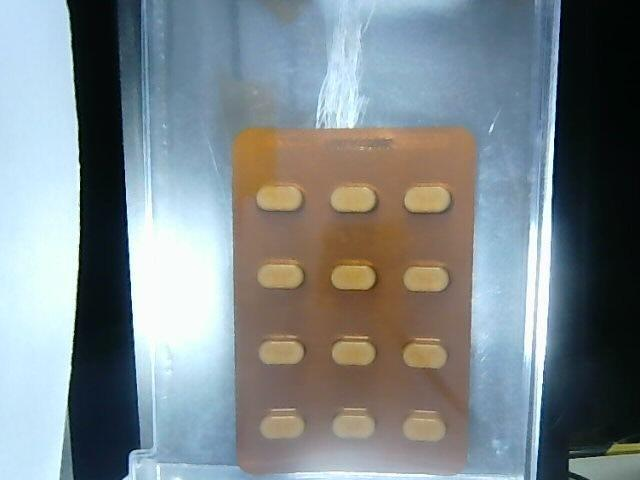Light Front: (229, 125, 479, 478)
Pill Front: (321, 257, 386, 299), (399, 336, 459, 372), (403, 177, 456, 217), (325, 182, 382, 219), (326, 335, 383, 370), (251, 259, 308, 291), (254, 180, 306, 215), (258, 331, 302, 371), (402, 262, 452, 297), (259, 414, 305, 443), (332, 414, 377, 441), (401, 419, 447, 443)
